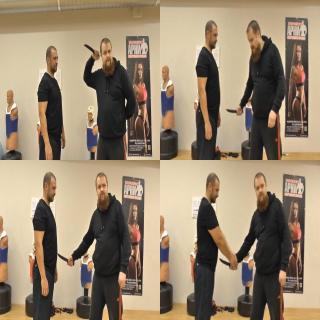knife: (82, 41, 100, 60), (57, 251, 75, 267), (219, 257, 238, 271), (224, 105, 244, 117)
